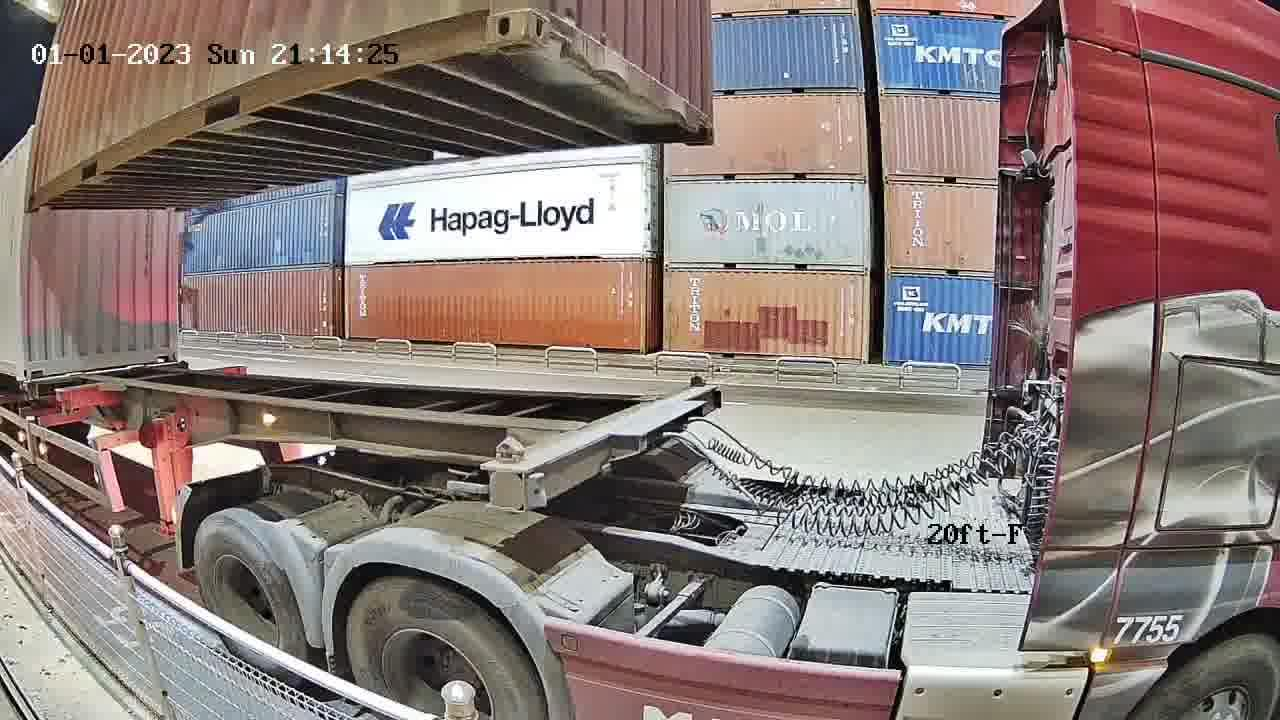Chassis: (479, 382, 720, 508)
Cone: (476, 437, 530, 506), (686, 371, 718, 405)
Hole_L: (526, 1, 587, 59)
Hole_R: (463, 0, 528, 53)
Tire: (347, 580, 548, 715), (192, 517, 307, 660)
